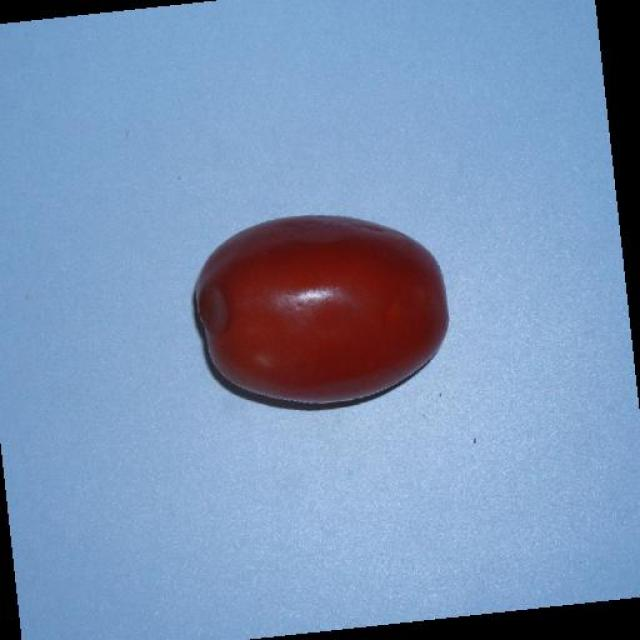Stale_tomato: (199, 220, 462, 384)
